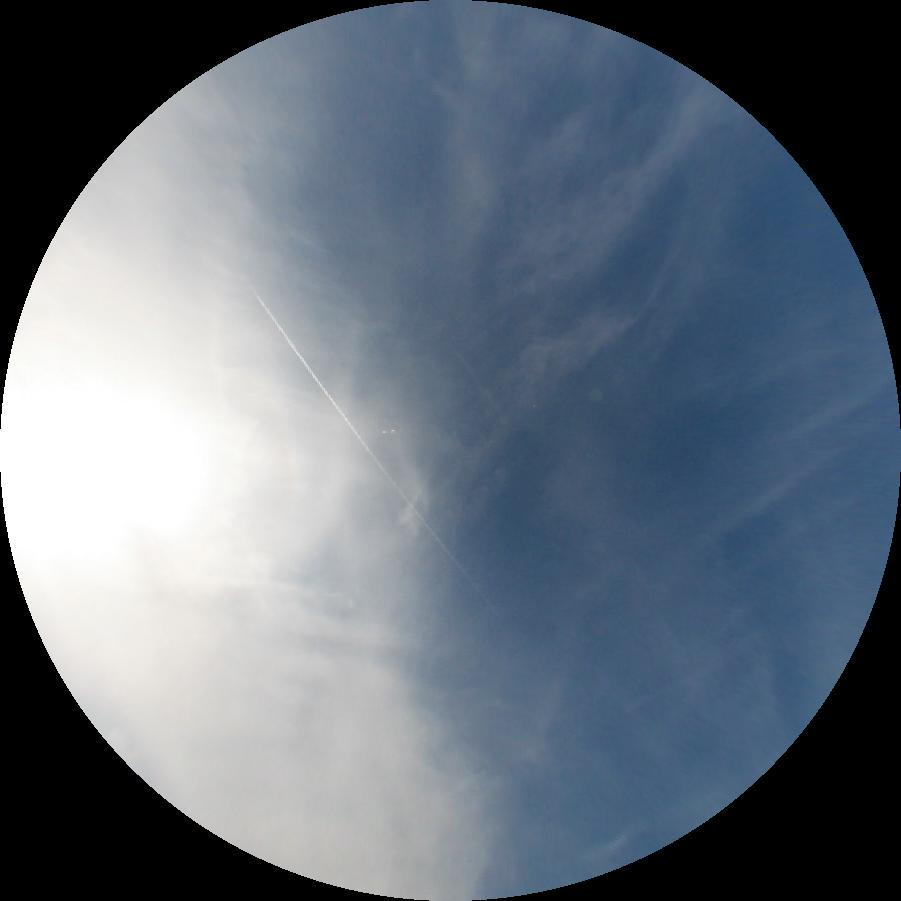contrail young: (243, 283, 502, 621)
sun: (0, 373, 204, 557)
